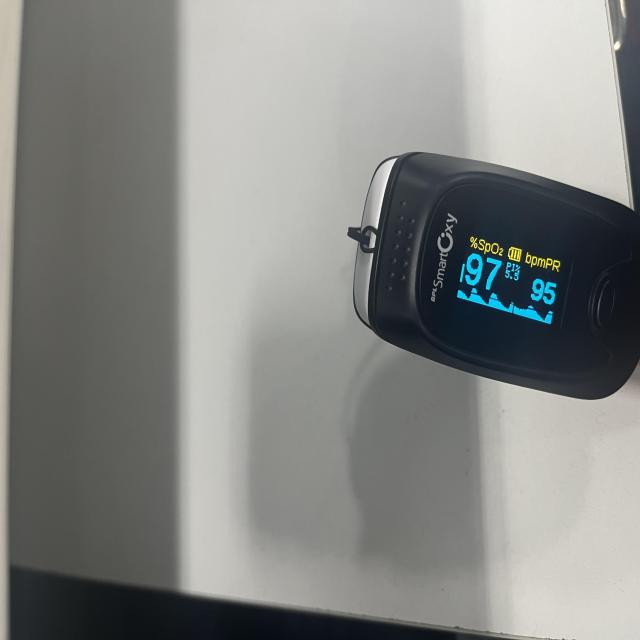spo2: (348, 153, 640, 402)
